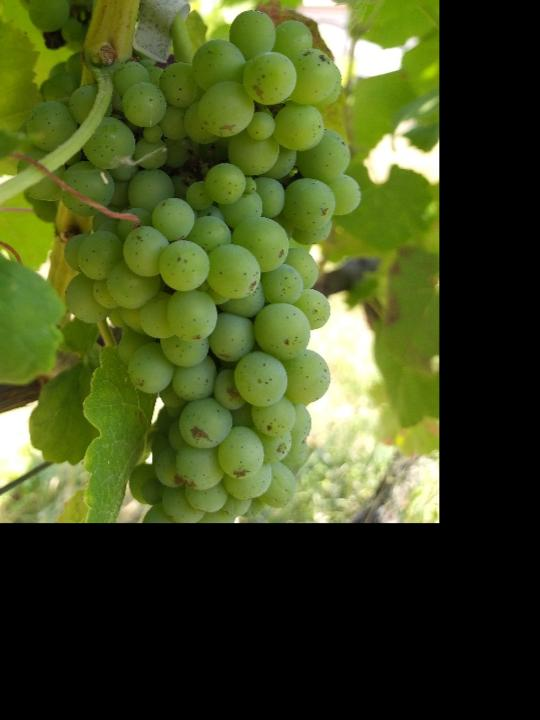grape: (15, 10, 362, 522)
